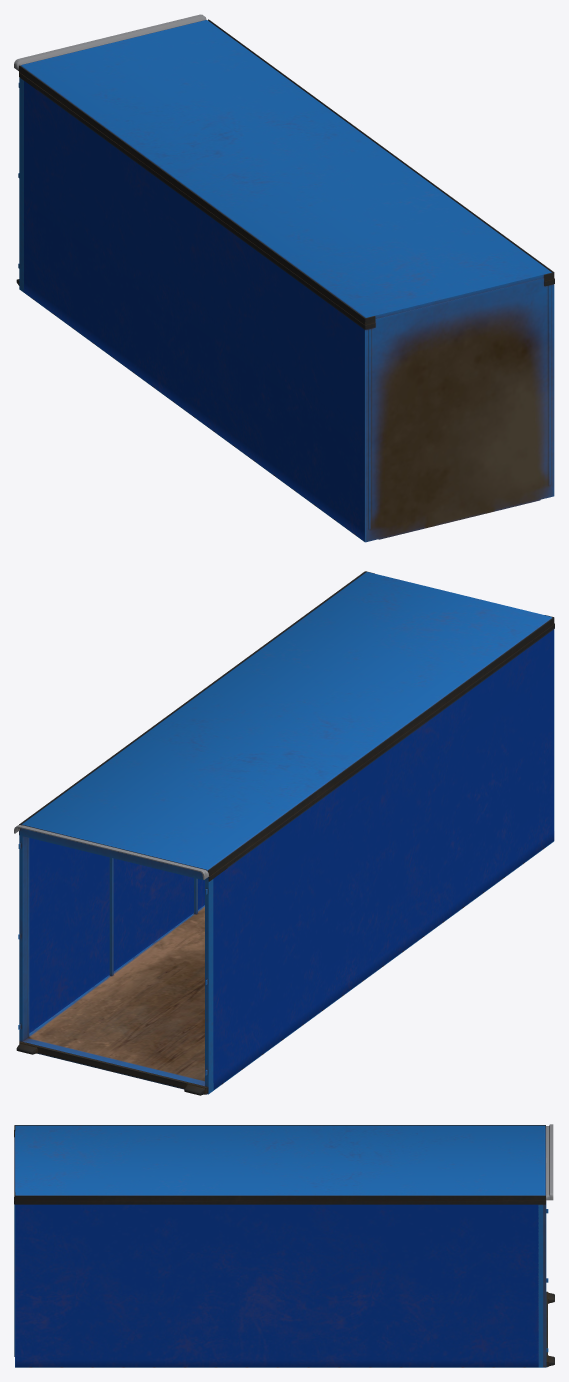
Rendered from truck3.glb.
The picture shows the model from 3 angles, top to bottom: view 1: azimuth 30°, elevation 25°; view 2: azimuth 150°, elevation 25°; view 3: azimuth 270°, elevation 25°; orthographic projection. The views are drawn at different scales.
Visible parts, largest first — view 1: Box_Bache_0; view 2: Box_Bache_0; view 3: Box_Bache_0.
Part boxes in pixels (box(x1,y1,x2,y2)): Box_Bache_0: box(14, 14, 554, 542); Box_Bache_0: box(14, 571, 554, 1095); Box_Bache_0: box(14, 1124, 554, 1367).
Size of the model in its own units: 2.74 by 3.11 by 8.77.
Materials: 1 (1 with a texture image).
